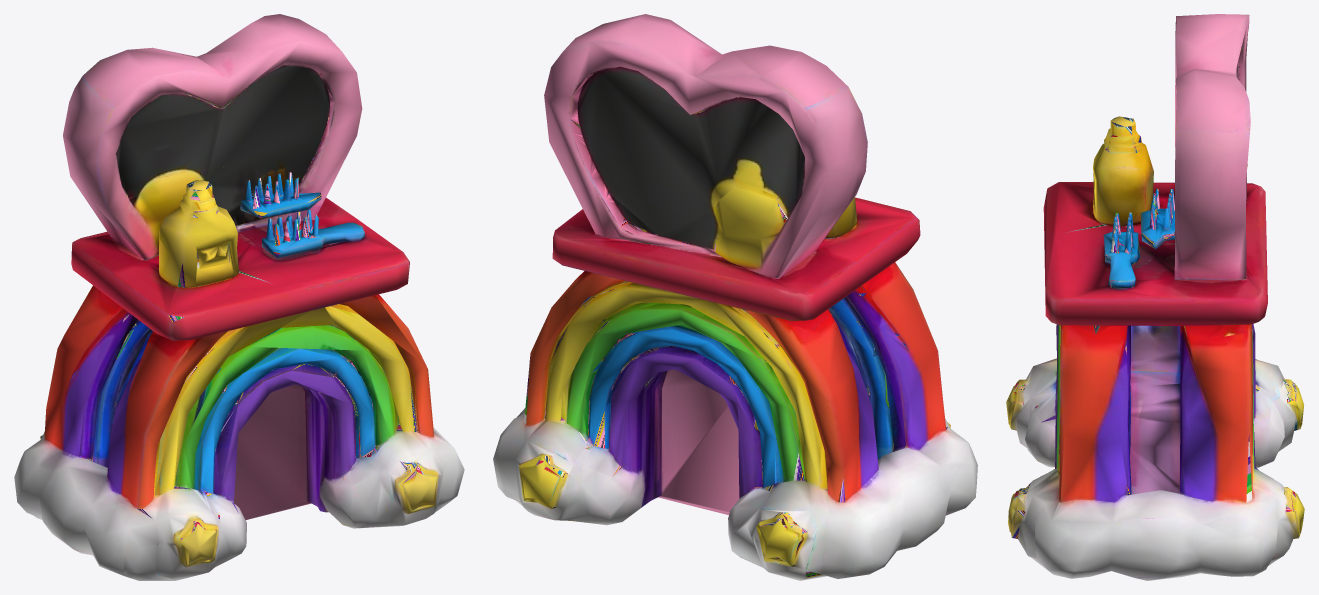
File: mirror.glb
3 views of the same model, side by side, from view 1: azimuth 30°, elevation 25°; view 2: azimuth 150°, elevation 25°; view 3: azimuth 270°, elevation 25° (orthographic). The views are drawn at different scales.
Bounding box in the file's own units: 1.73 × 1.99 × 1.19.
1 material, 1 textured.
